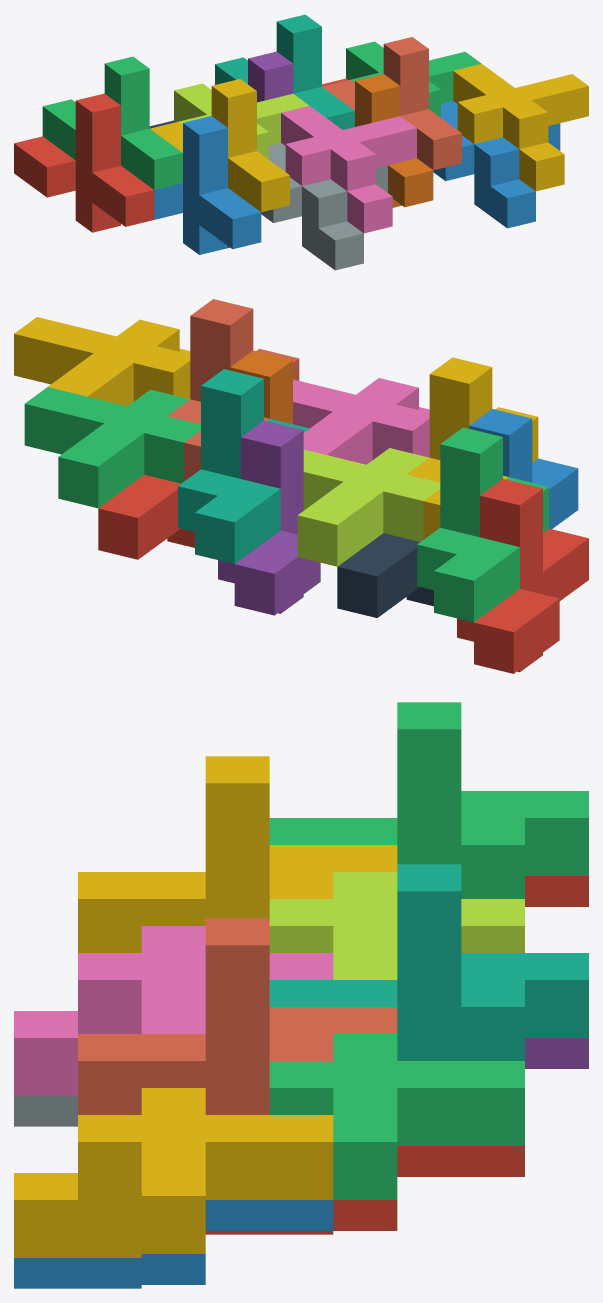
The model's file is tiling.obj.
The picture shows the model from 3 angles, top to bottom: view 1: azimuth 30°, elevation 25°; view 2: azimuth 150°, elevation 25°; view 3: azimuth 270°, elevation 25°; orthographic projection. The views are drawn at different scales.
Parts seen in each view (by area): view 1: copy_1_domain_1, copy_2_domain_8, copy_2_domain_4, copy_1_domain_2, copy_1_domain_3, copy_1_domain_4, copy_2_domain_6, copy_2_domain_2, copy_1_domain_8, copy_1_domain_7, copy_1_domain_6, copy_2_domain_7 (+2 smaller); view 2: copy_2_domain_7, copy_1_domain_1, copy_1_domain_3, copy_1_domain_7, copy_2_domain_3, copy_2_domain_8, copy_1_domain_5, copy_2_domain_4, copy_1_domain_4, copy_1_domain_8, copy_2_domain_1, copy_2_domain_5 (+2 smaller); view 3: copy_2_domain_8, copy_1_domain_7, copy_1_domain_8, copy_1_domain_3, copy_2_domain_7, copy_1_domain_4, copy_2_domain_4, copy_2_domain_3, copy_2_domain_6, copy_2_domain_5, copy_1_domain_1, copy_1_domain_5 (+1 smaller).
Boxes of the visible parts, bbox=[...] form: copy_1_domain_1: bbox=[14, 93, 154, 232]; copy_2_domain_8: bbox=[453, 64, 588, 191]; copy_2_domain_4: bbox=[281, 106, 416, 233]; copy_1_domain_2: bbox=[154, 116, 261, 254]; copy_1_domain_3: bbox=[42, 56, 182, 189]; copy_1_domain_4: bbox=[150, 79, 289, 212]; copy_2_domain_6: bbox=[433, 101, 560, 228]; copy_2_domain_2: bbox=[261, 143, 387, 270]; copy_1_domain_8: bbox=[322, 37, 461, 170]; copy_1_domain_7: bbox=[215, 14, 354, 129]; copy_1_domain_6: bbox=[355, 74, 433, 207]; copy_2_domain_7: bbox=[346, 41, 481, 117]; copy_2_domain_7: bbox=[24, 387, 200, 508]; copy_1_domain_1: bbox=[457, 479, 588, 673]; copy_1_domain_3: bbox=[417, 427, 548, 622]; copy_1_domain_7: bbox=[178, 369, 309, 563]; copy_2_domain_3: bbox=[297, 448, 440, 566]; copy_2_domain_8: bbox=[14, 317, 190, 406]; copy_1_domain_5: bbox=[218, 420, 320, 615]; copy_2_domain_4: bbox=[293, 378, 429, 464]; copy_1_domain_4: bbox=[407, 357, 538, 539]; copy_1_domain_8: bbox=[167, 299, 299, 481]; copy_2_domain_1: bbox=[337, 533, 433, 617]; copy_2_domain_5: bbox=[98, 474, 194, 559]; copy_2_domain_8: bbox=[14, 1088, 333, 1257]; copy_1_domain_7: bbox=[269, 864, 588, 1060]; copy_1_domain_8: bbox=[78, 918, 397, 1114]; copy_1_domain_3: bbox=[269, 702, 588, 898]; copy_2_domain_7: bbox=[269, 1034, 524, 1199]; copy_1_domain_4: bbox=[78, 756, 397, 952]; copy_2_domain_4: bbox=[14, 926, 333, 1095]; copy_2_domain_3: bbox=[269, 872, 524, 979]; copy_2_domain_6: bbox=[14, 1200, 333, 1288]; copy_2_domain_5: bbox=[205, 1146, 524, 1234]; copy_1_domain_1: bbox=[525, 876, 588, 906]; copy_1_domain_5: bbox=[525, 1038, 588, 1068].
Size of the model in its own units: 16 by 5 by 9.
